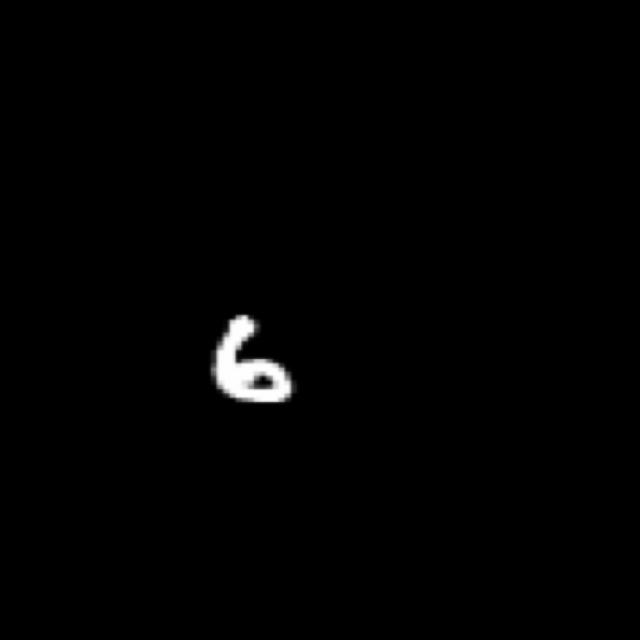six -6-: (198, 310, 308, 407)
